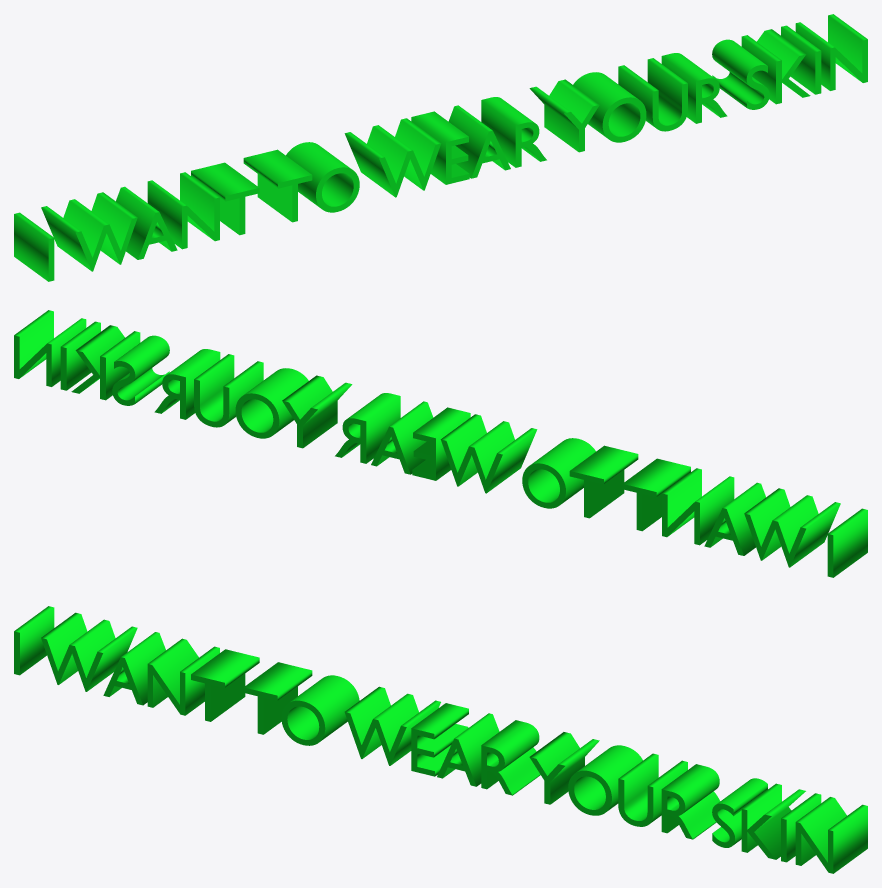
The model's file is Envy2.fbx.
3 renders of one model, top to bottom at view 1: azimuth 30°, elevation 25°; view 2: azimuth 150°, elevation 25°; view 3: azimuth 330°, elevation 25°, orthographic.
Visible parts, largest first — view 1: Text; view 2: Text; view 3: Text.
Boxes of the visible parts, <box> form: Text: <box>14,14,867,281</box>; Text: <box>14,310,867,577</box>; Text: <box>14,606,867,873</box>.
Size of the model in its own units: 1371 by 70 by 100.
